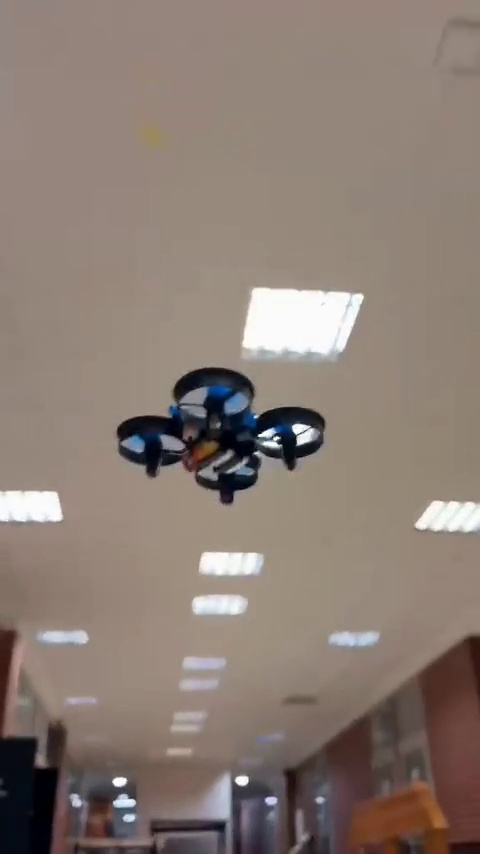drone: (116, 370, 336, 506)
